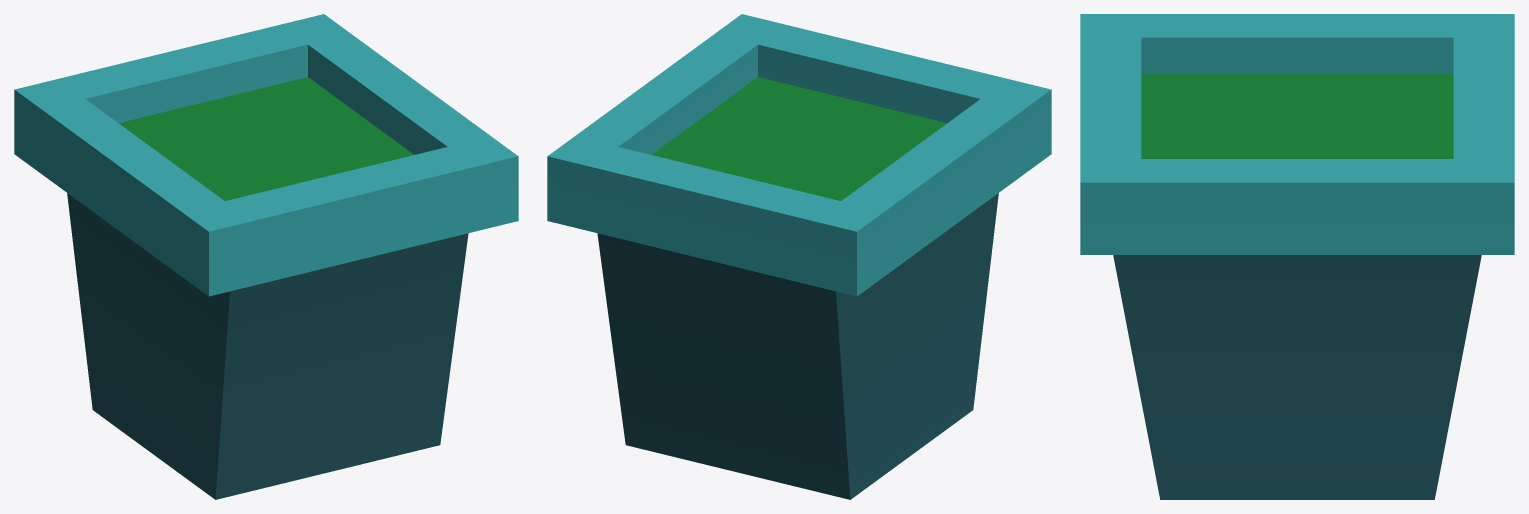
File: FlowerPot_5_3_C.fbx
3 renders of one model, left to right at view 1: azimuth 30°, elevation 25°; view 2: azimuth 150°, elevation 25°; view 3: azimuth 270°, elevation 25°, orthographic. The views are drawn at different scales.
Parts seen in each view (by area): view 1: FlowerPot_5_3_C; view 2: FlowerPot_5_3_C; view 3: FlowerPot_5_3_C.
Boxes of the visible parts, x1,y1,x2,y2 form: FlowerPot_5_3_C: (14,14,518,499); FlowerPot_5_3_C: (547,14,1051,499); FlowerPot_5_3_C: (1080,14,1514,499).
Size of the model in its own units: 32.46 by 30.52 by 35.3.
